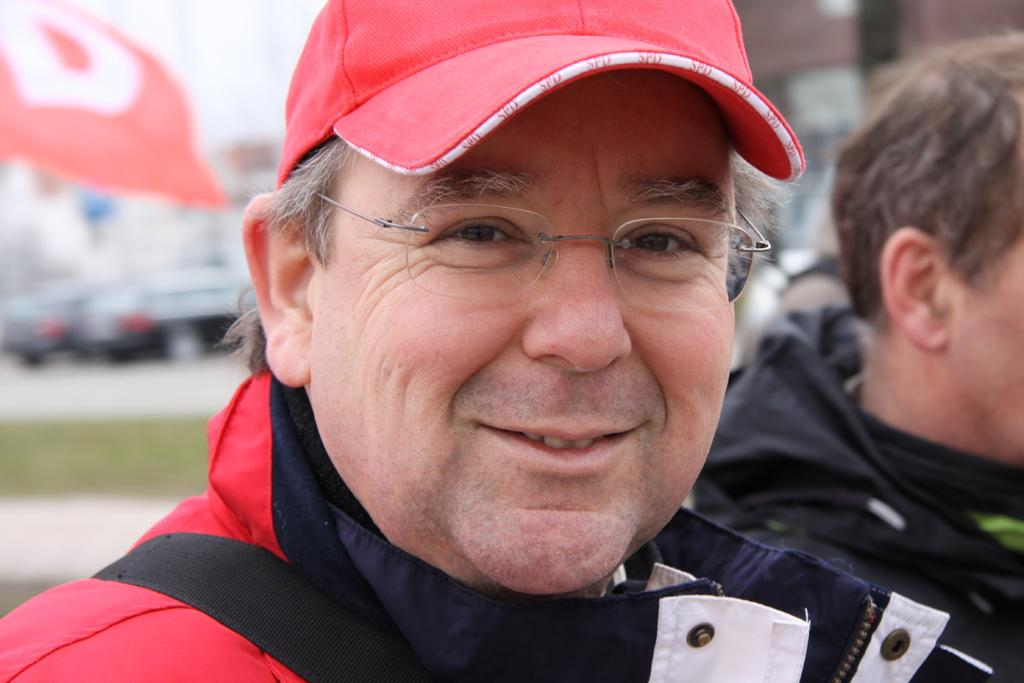Hat: (274, 0, 806, 188)
